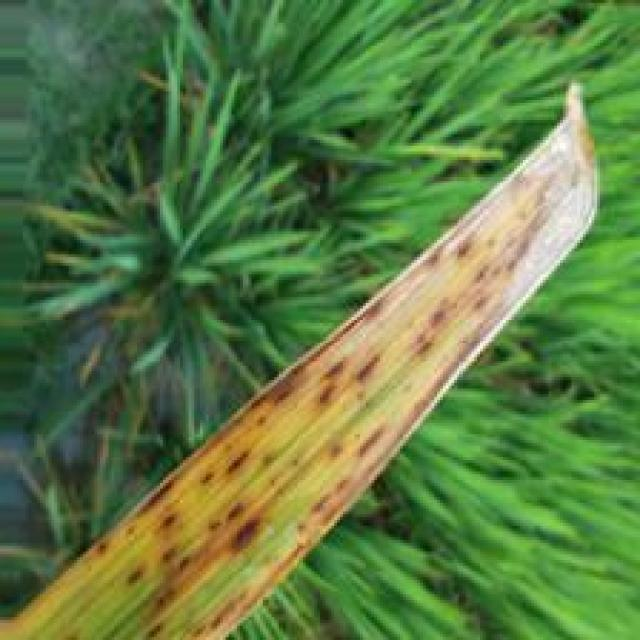Narrow_Brown_Leaf_Spot: (60, 116, 602, 640)
